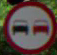No overtake: (7, 2, 55, 49)
